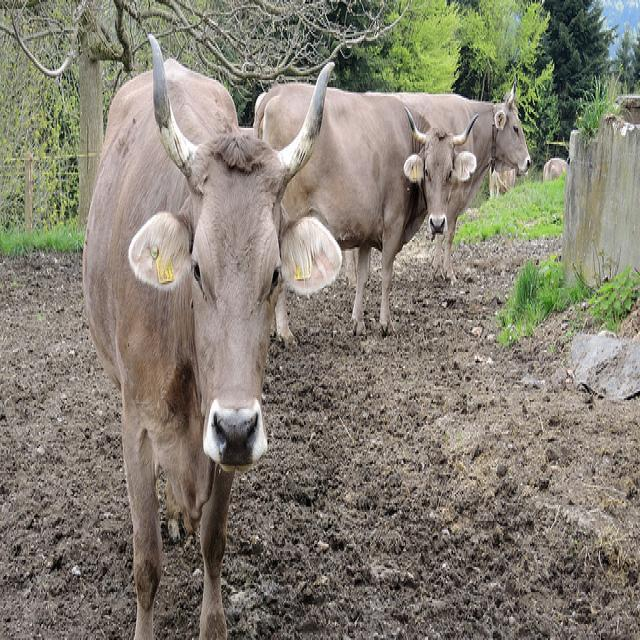cow: (81, 21, 341, 631), (262, 80, 481, 336), (344, 71, 530, 283), (541, 155, 567, 180)
